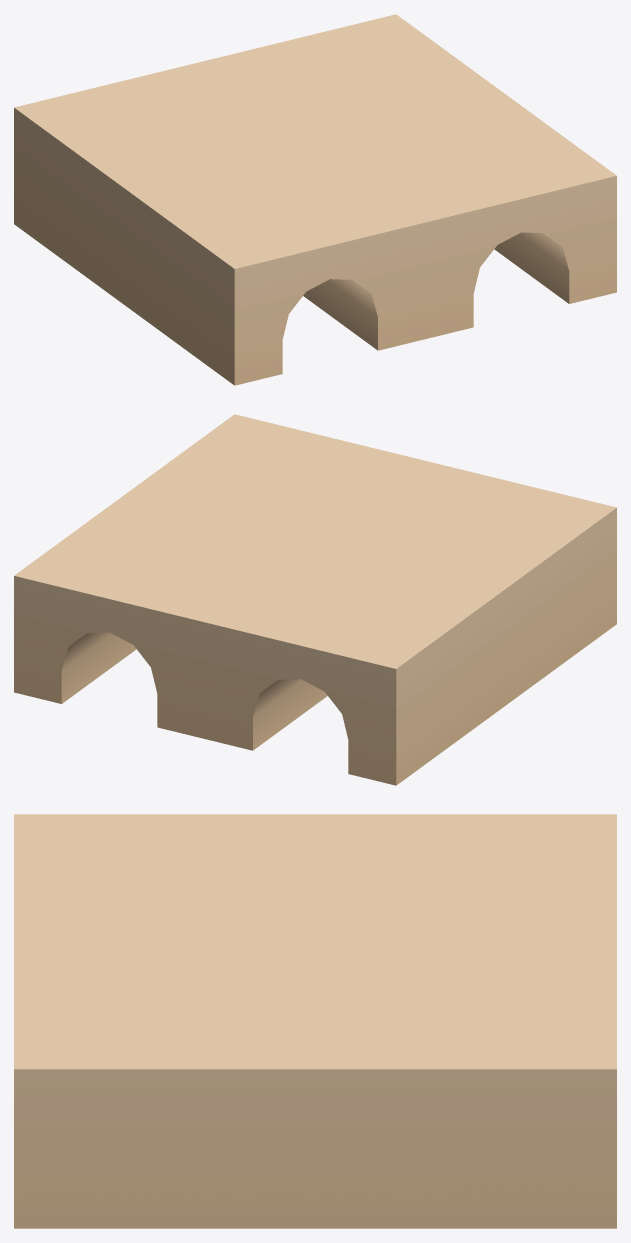
The model's file is structure-gates.glb.
The picture shows the model from 3 angles, top to bottom: view 1: azimuth 30°, elevation 25°; view 2: azimuth 150°, elevation 25°; view 3: azimuth 270°, elevation 25°; orthographic projection. The views are drawn at different scales.
Visible parts, largest first — view 1: structure-gates; view 2: structure-gates; view 3: structure-gates.
Part boxes in pixels (x1=…): structure-gates: x1=14, y1=14, x2=616, y2=385; structure-gates: x1=14, y1=414, x2=616, y2=785; structure-gates: x1=14, y1=814, x2=616, y2=1228.
Size of the model in its own units: 0.7999 by 0.2333 by 0.7999.
Materials: 1 (1 with a texture image).
